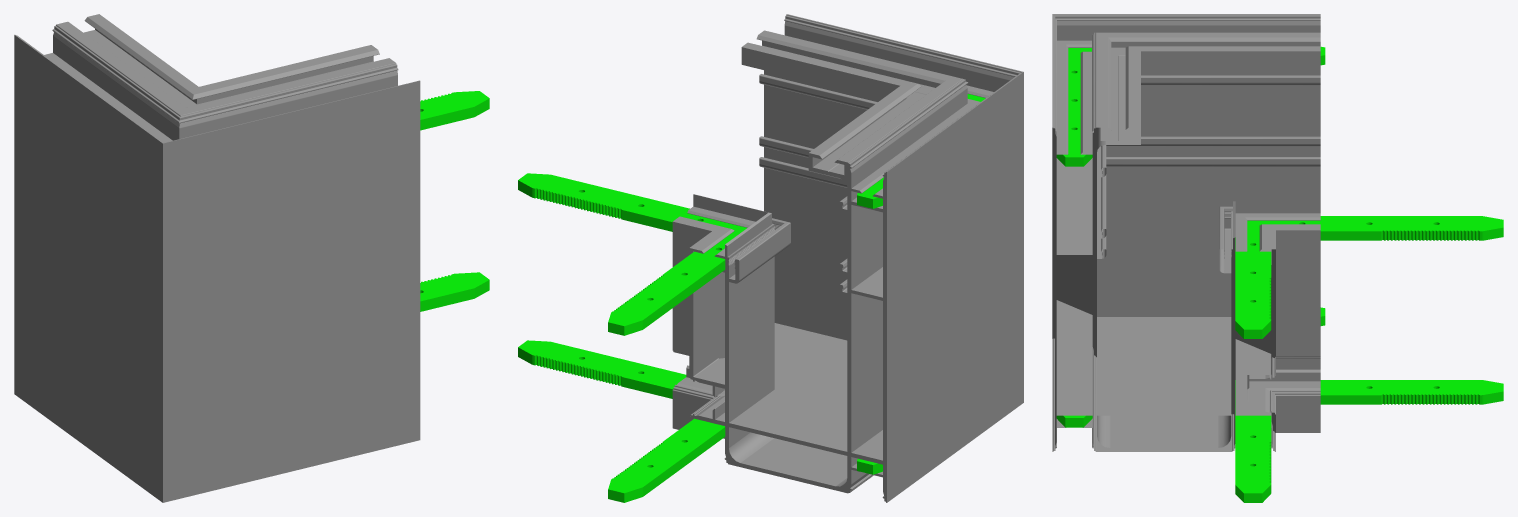
The model's file is leftCorner.glb.
3 views of the same model, side by side, from view 1: azimuth 30°, elevation 25°; view 2: azimuth 150°, elevation 25°; view 3: azimuth 270°, elevation 25° (orthographic). The views are drawn at different scales.
Parts seen in each view (by area): view 1: 3DGeom-6, 3DGeom-8 (×2); view 2: 3DGeom-6, 3DGeom-8 (×3); view 3: 3DGeom-6, 3DGeom-8 (×4).
Part boxes in pixels (bbox=[...]): 3DGeom-6: bbox=[14, 14, 420, 502]; 3DGeom-8 (×2): bbox=[420, 91, 489, 311]; 3DGeom-6: bbox=[672, 14, 1023, 502]; 3DGeom-8 (×3): bbox=[518, 94, 985, 502]; 3DGeom-6: bbox=[1052, 14, 1320, 451]; 3DGeom-8 (×4): bbox=[1056, 46, 1503, 502].
Bounding box in the file's own units: 0.2562 × 0.2032 × 0.2562.
